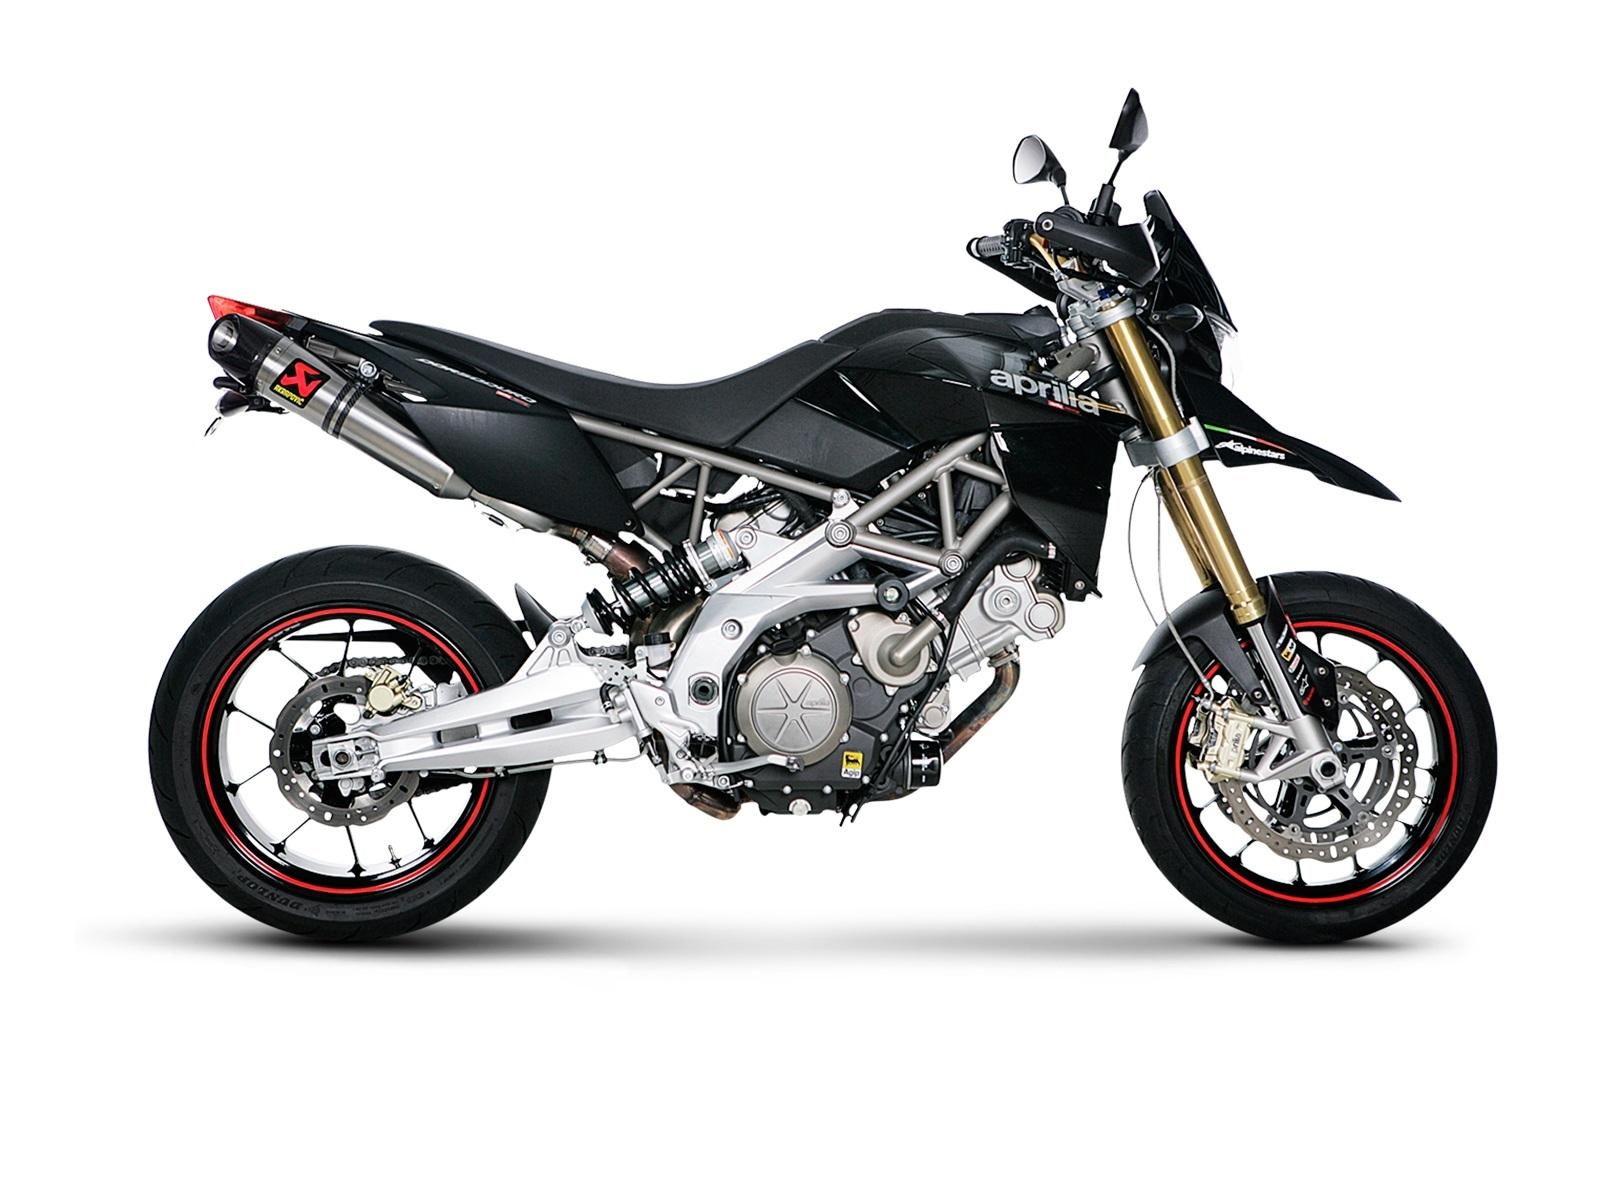engine-chasis: (629, 431, 1066, 827), (548, 527, 758, 648)
exhaust: (207, 313, 651, 582), (932, 638, 1019, 765), (626, 587, 711, 659), (669, 783, 757, 821), (653, 729, 668, 774)
frontside: (726, 189, 1402, 794)
handlebar: (965, 87, 1173, 325)
motorbike: (147, 88, 1499, 943)
rearside: (207, 294, 850, 590), (311, 582, 678, 784), (203, 376, 291, 437)
seat: (368, 319, 858, 450)
tank: (818, 308, 1023, 349)
wheel: (147, 545, 554, 942), (1120, 570, 1498, 945), (1128, 464, 1214, 703), (449, 745, 649, 779), (316, 654, 450, 676), (582, 644, 627, 657)
